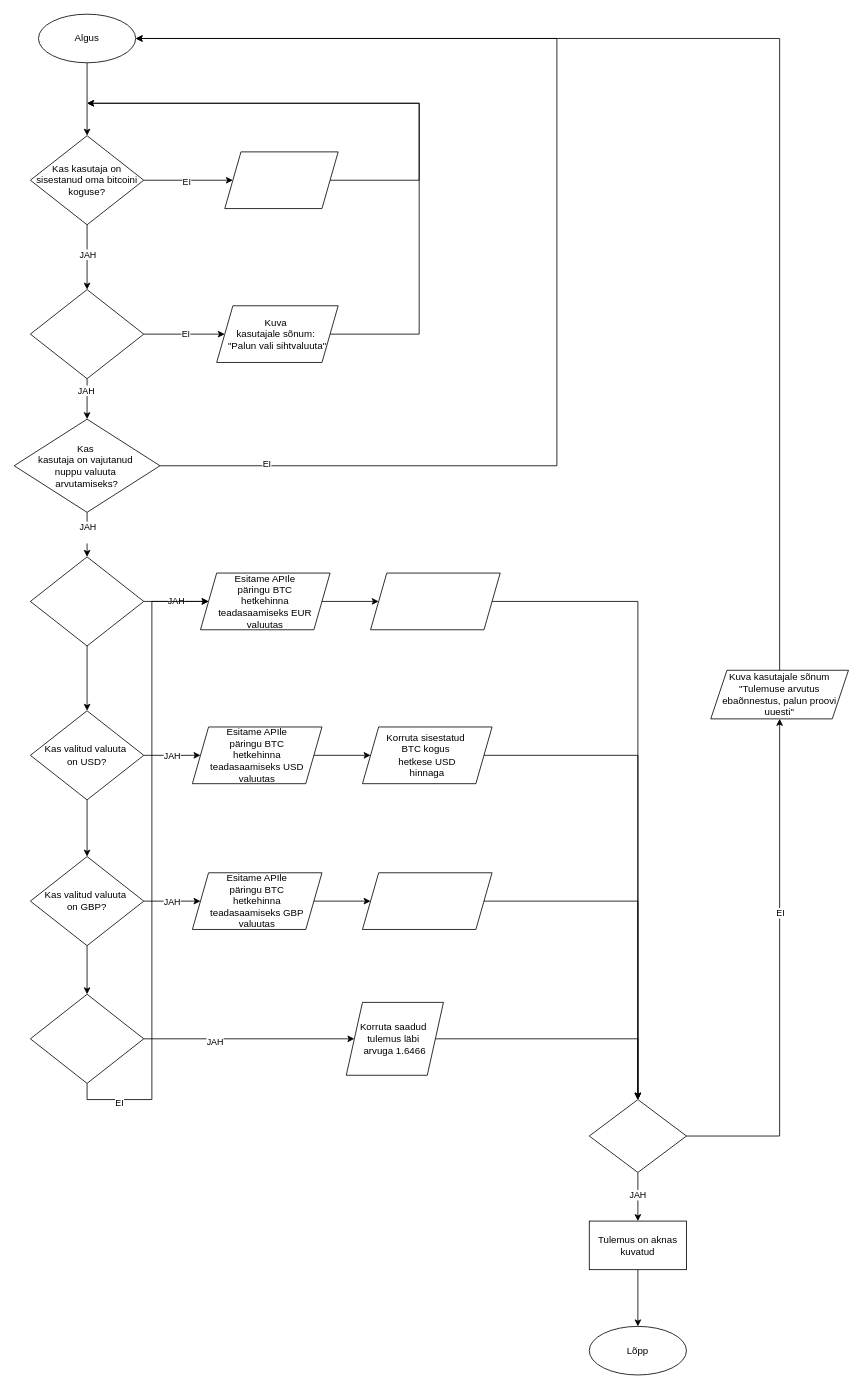
Image size: 863x1389. Some labels were removed from this diagram. The shapes that lost their labels are listed below. From the top down, each one's centre as x and y in pixels, then its label:
the point at 281,180: Kuva kasutajale sõnum: "Palun sisesta BTC kogus"
the point at 87,334: Kas kasutaja on valinud sihtvaluuta?
the point at 87,601: Kas valitud valuuta on EUR?
the point at 435,601: Korruta sisestatud BTC kogus hetkese EUR hinnaga
the point at 427,900: Korruta sisestatud BTC kogus hetkese GBP hinnaga
the point at 87,1038: Kas valitud valuuta on EEK?
the point at 637,1135: Kas arvutus teostati edukalt?
